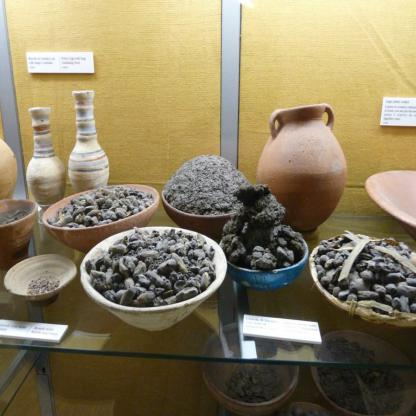vase: (254, 102, 346, 233), (24, 106, 66, 209), (66, 90, 108, 192)
